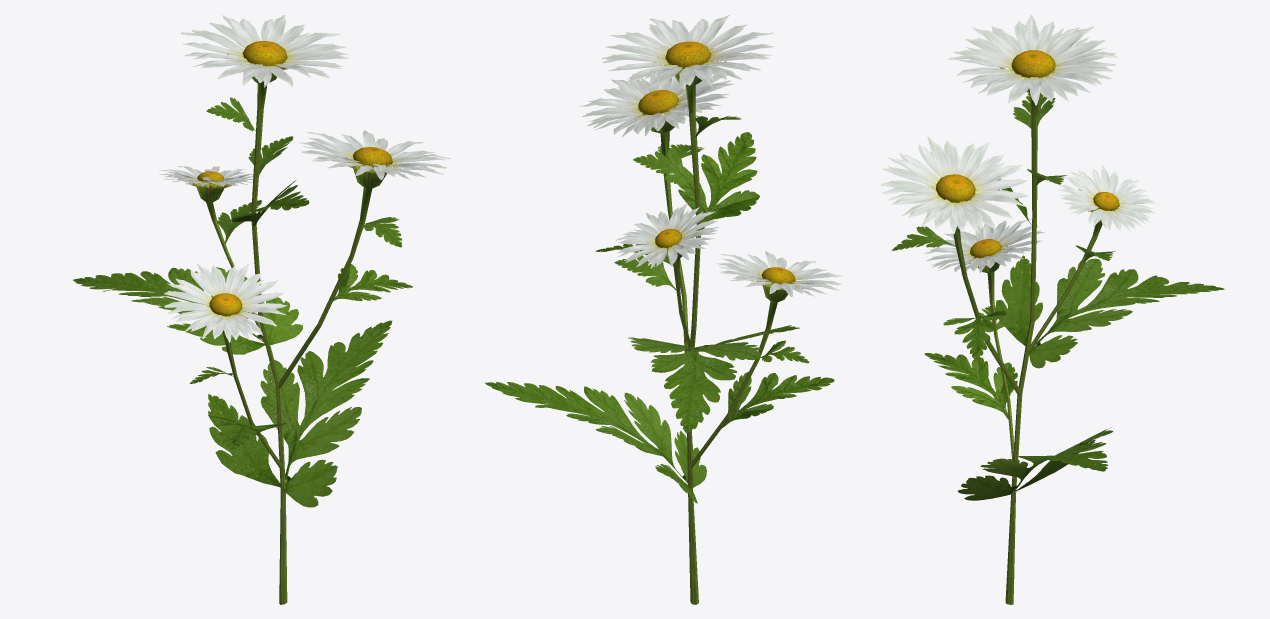
Rendered from marigold.obj.
3 renders of one model, left to right at view 1: azimuth 30°, elevation 25°; view 2: azimuth 150°, elevation 25°; view 3: azimuth 270°, elevation 25°, orthographic. The views are drawn at different scales.
Visible parts, largest first — view 1: plant.001; view 2: plant.001; view 3: plant.001.
Part boxes in pixels (bbox=[...]): plant.001: bbox=[73, 15, 450, 604]; plant.001: bbox=[484, 15, 843, 604]; plant.001: bbox=[881, 15, 1225, 604].
Size of the model in its own units: 5.57 by 7.96 by 4.93.
4 materials, 4 textured.
